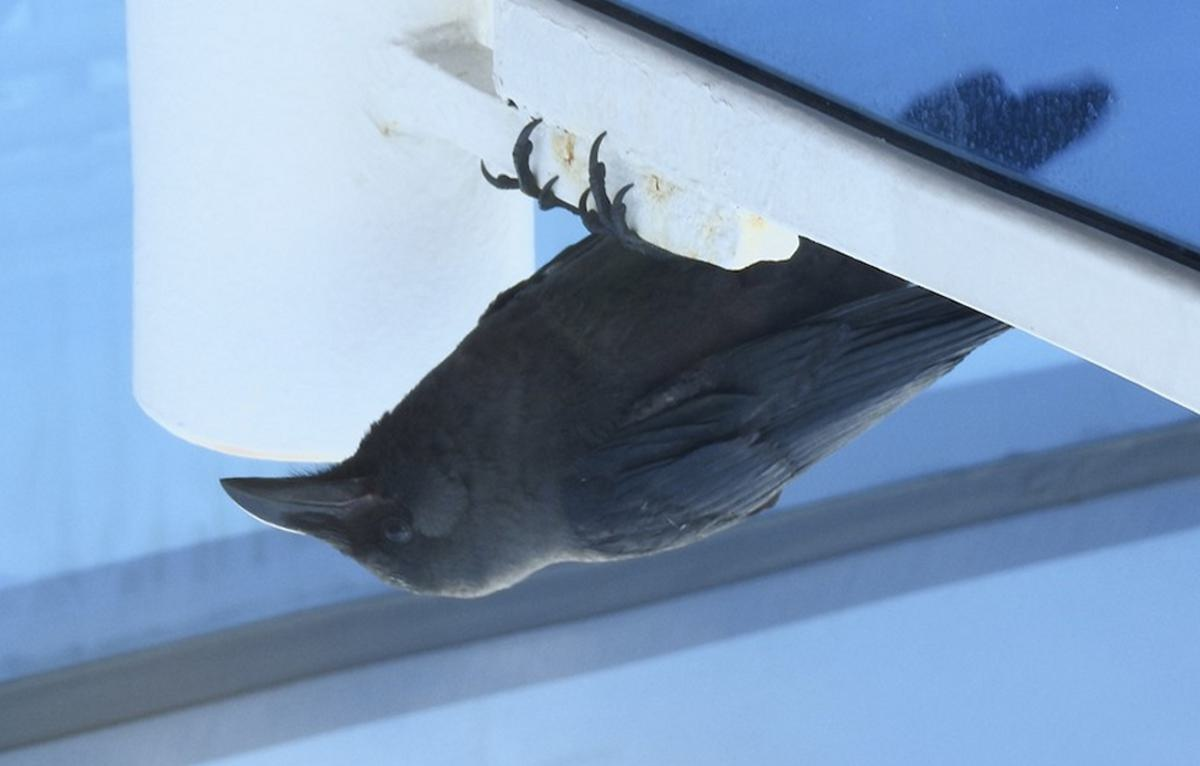crow: (217, 149, 1053, 606)
